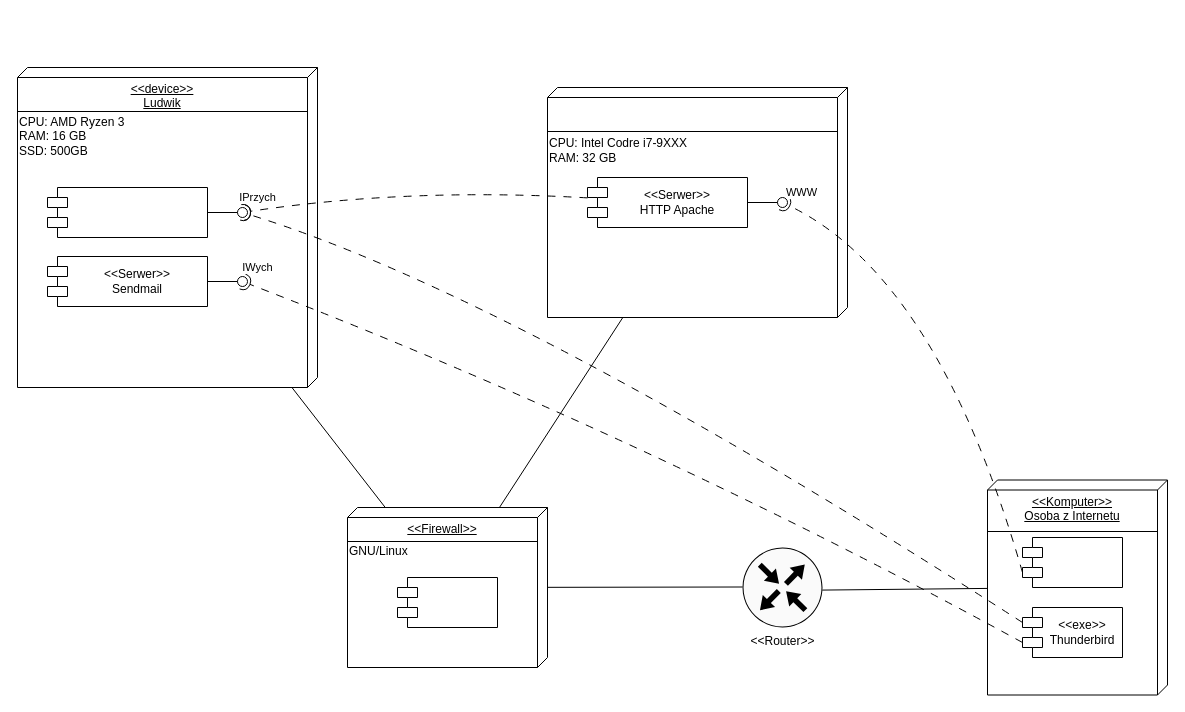
The diagram is 1185 pixels wide and 712 high, and some of its shapes have lost their labels. Each missing label, with the box of its shape:
<<&>> iptables: (396, 576, 498, 628)
<<device>> Bartek: (546, 86, 848, 318)
<<exe>> Firefox: (1022, 536, 1122, 588)
<<Serwer>> Xmail: (46, 186, 208, 238)
